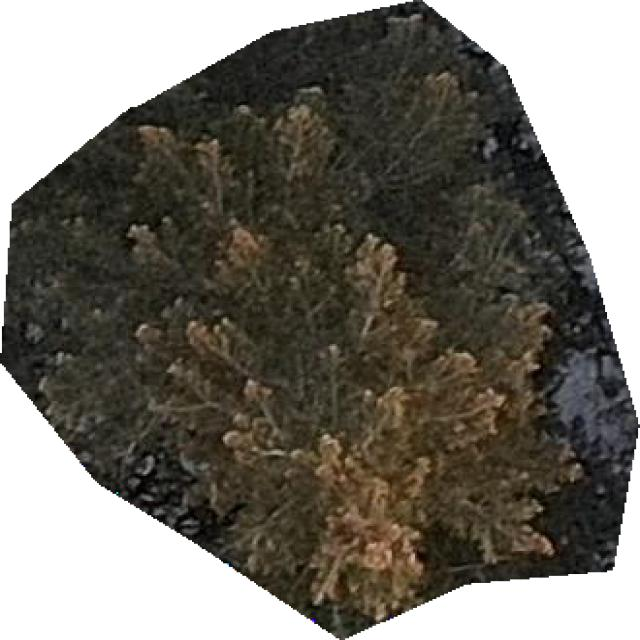spruce: (2, 2, 634, 638)
